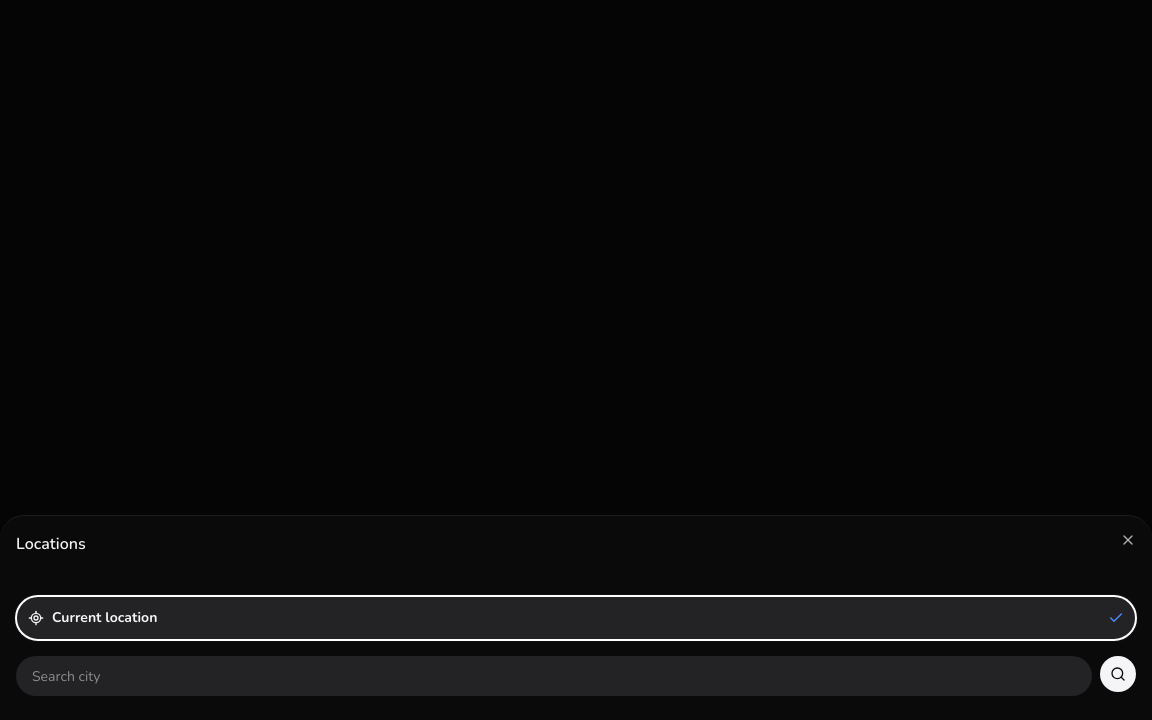
LocationSwitcher › searches, adds the chosen result, and closes
Type "denver" into the field with placeholder "Search city" at (554, 676), box [16,656,1092,696]
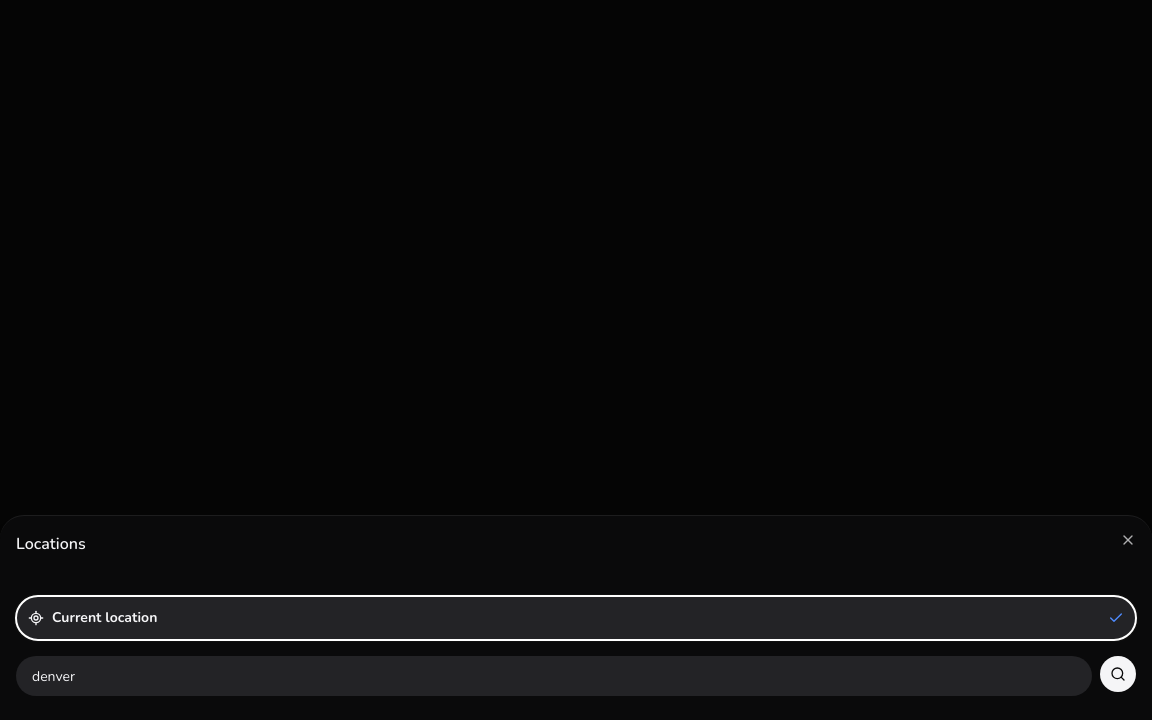
Submit the form with placeholder "search city", box [16,656,1136,696]
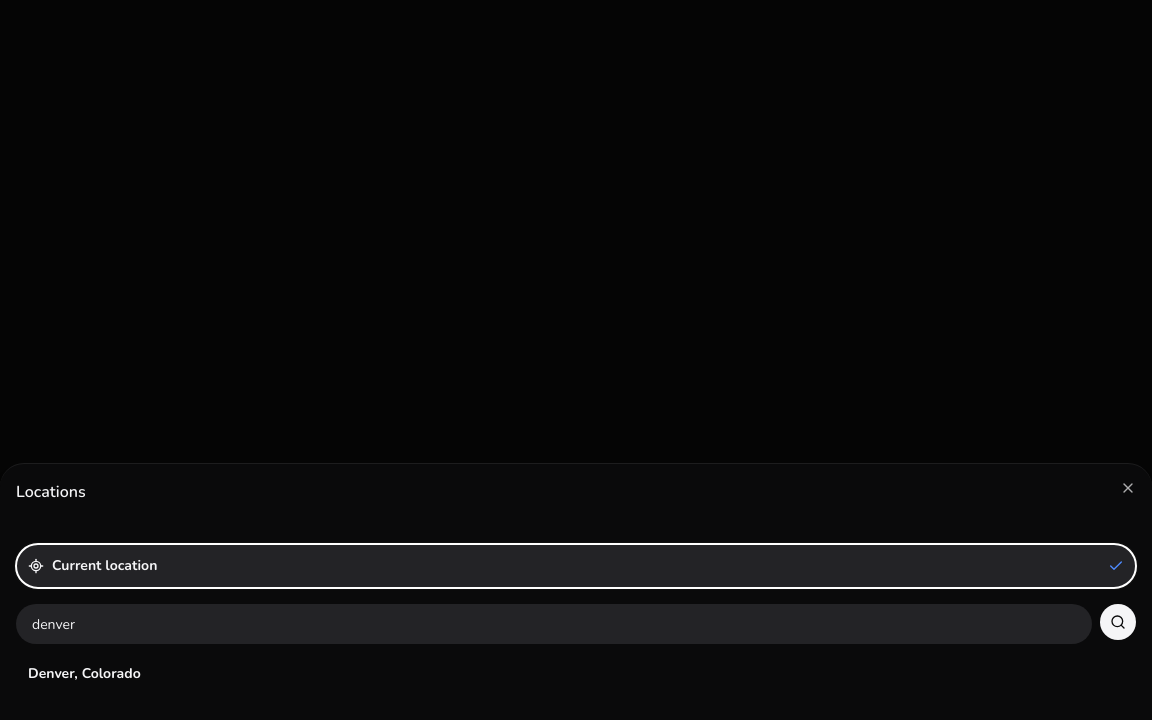
Click the button "Denver, Colorado" at (84, 674), box [16,652,1136,696]
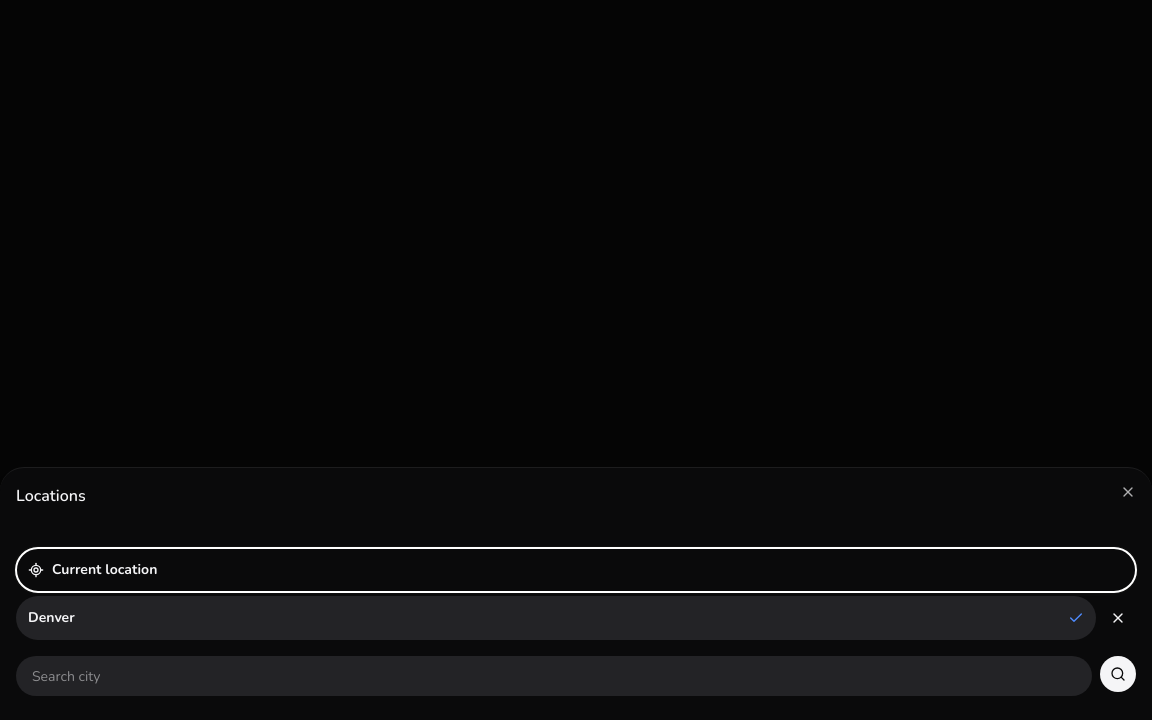
Check: the text "Denver" is shown, box [28,608,75,627]
